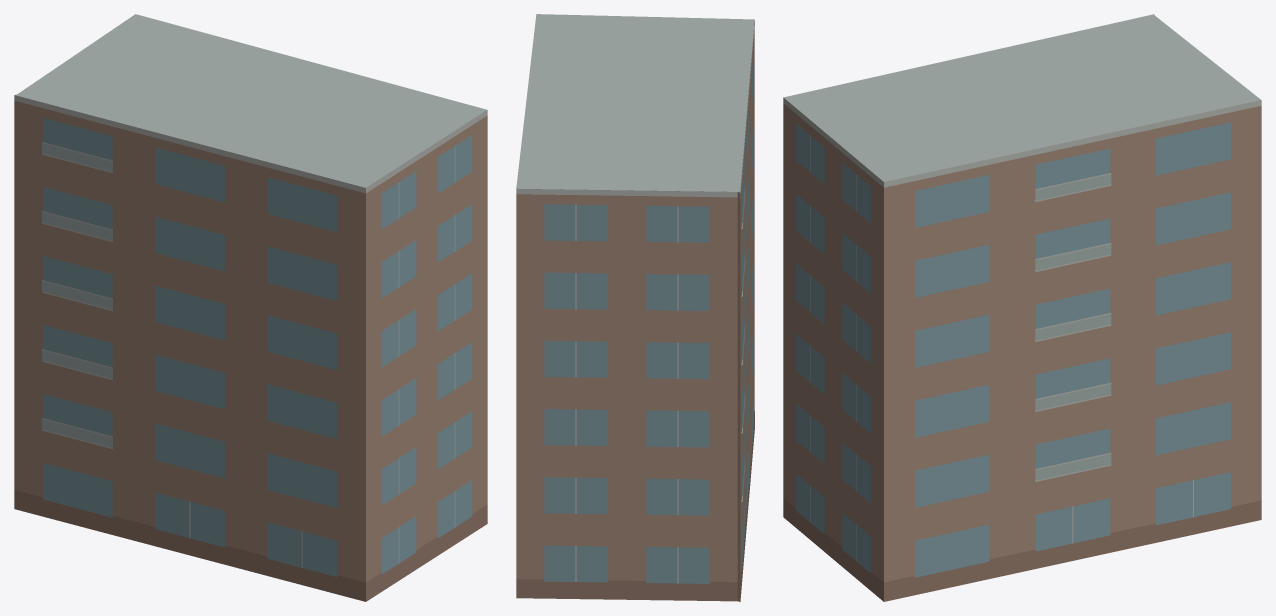
The model's file is survey-upis-32978076.glb.
3 views of the same model, side by side, from view 1: azimuth 30°, elevation 25°; view 2: azimuth 150°, elevation 25°; view 3: azimuth 270°, elevation 25° (orthographic). The views are drawn at different scales.
Visible parts, largest first — view 1: survey-upis-32978076.tmp; view 2: survey-upis-32978076.tmp; view 3: survey-upis-32978076.tmp.
Part boxes in pixels (x1,y1,x2,y2): survey-upis-32978076.tmp: (14,14,487,601); survey-upis-32978076.tmp: (516,14,754,601); survey-upis-32978076.tmp: (783,14,1261,601).
Bounding box in the file's own units: 15.64 × 18.2 × 18.8.
